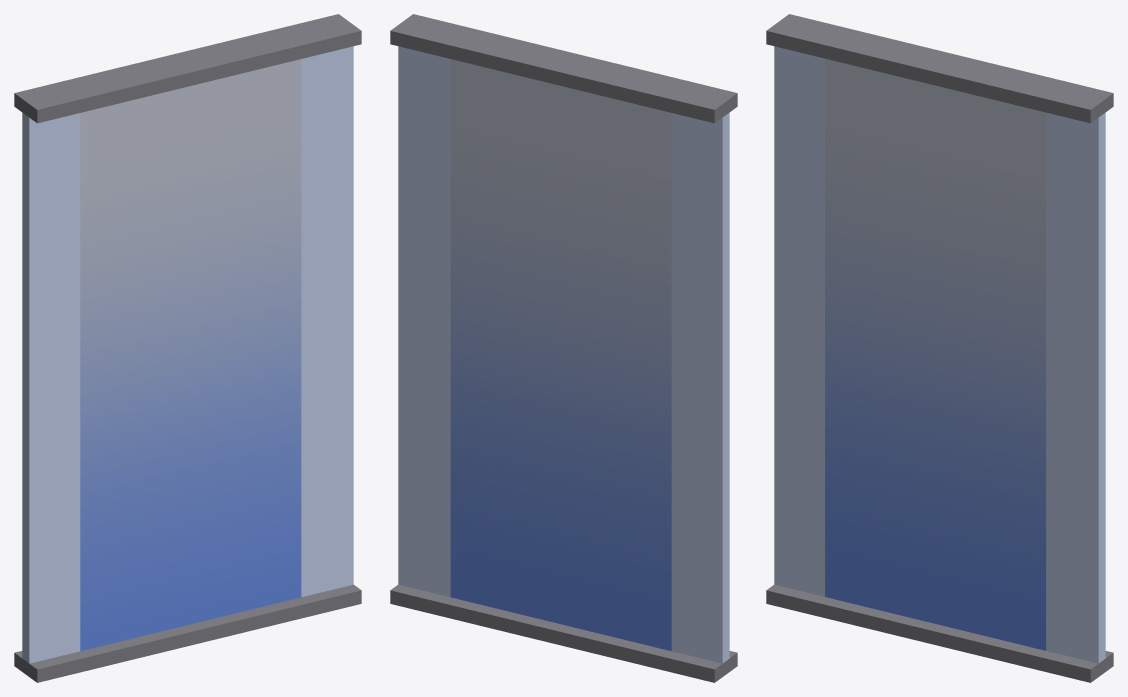
Rendered from dataPC_clearwall.fbx.
3 renders of one model, left to right at view 1: azimuth 30°, elevation 25°; view 2: azimuth 150°, elevation 25°; view 3: azimuth 330°, elevation 25°, orthographic.
Parts seen in each view (by area): view 1: dataPC_clearwall; view 2: dataPC_clearwall; view 3: dataPC_clearwall.
Part boxes in pixels (x1,y1,x2,y2): dataPC_clearwall: (14,14,361,682); dataPC_clearwall: (390,14,737,682); dataPC_clearwall: (766,14,1113,682).
Size of the model in its own units: 0.0171 by 0.0288 by 0.00209.
1 material, 1 textured.
